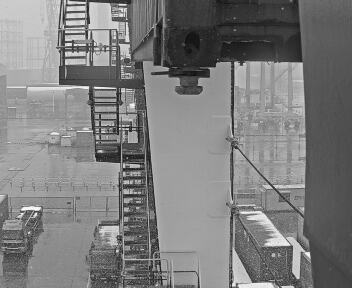twist_lock_1: (158, 61, 220, 103)
